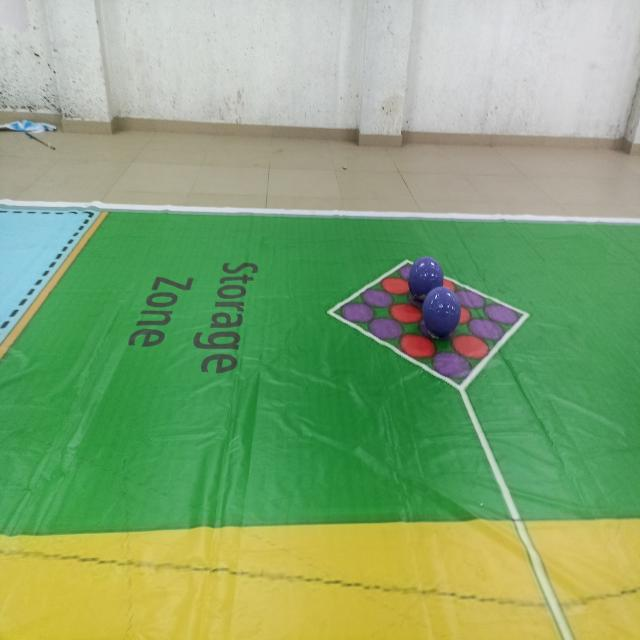purple_ball: (424, 287, 462, 339), (409, 257, 443, 299)
